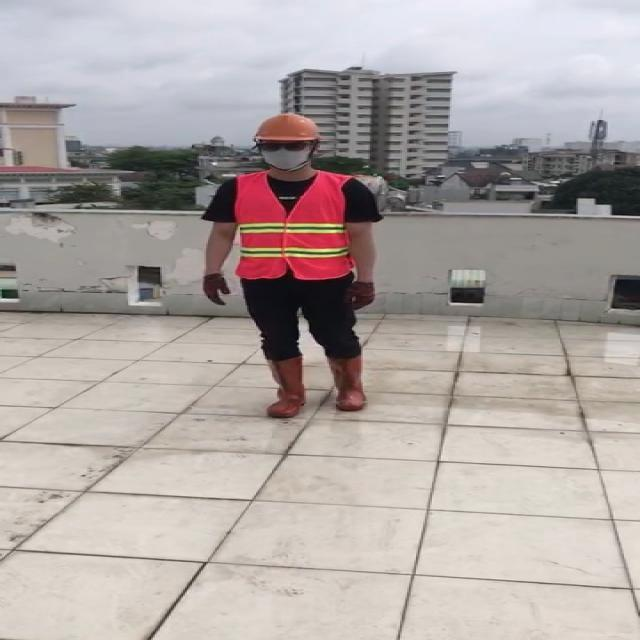Hard_hat: (251, 110, 327, 154)
Person: (195, 113, 393, 431)
Vest: (229, 169, 350, 283)
